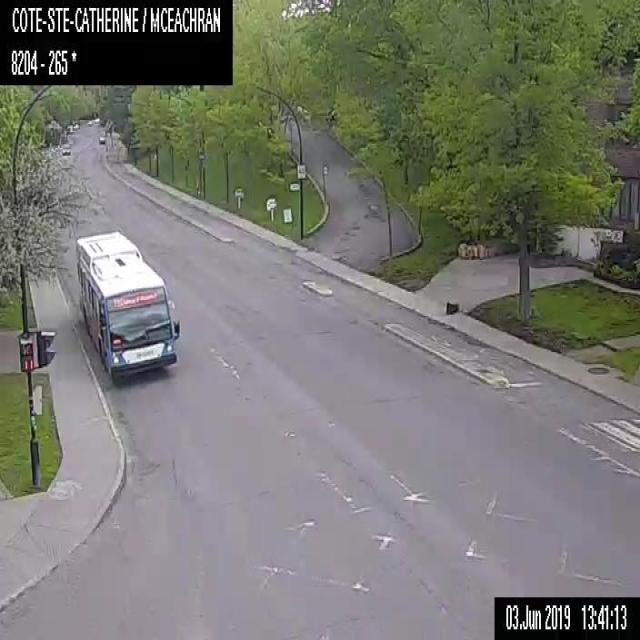bus: (74, 228, 180, 381)
vehicle: (62, 144, 70, 154), (65, 124, 72, 132), (98, 134, 105, 142), (86, 119, 93, 125), (73, 122, 79, 129), (94, 117, 100, 123)
